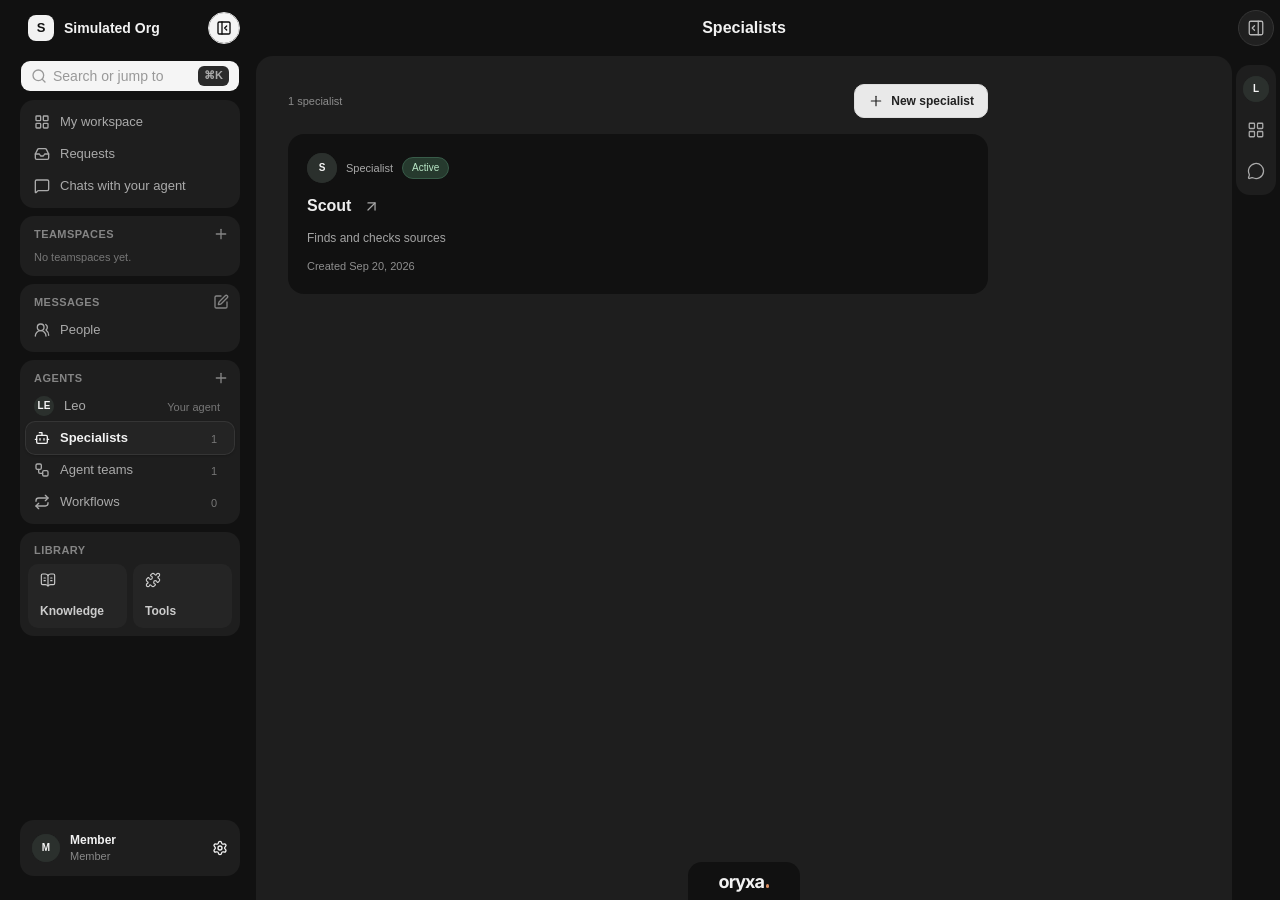
Scenario: Specialists › shows its instructions and the teams it works in
The width and height of the screenshot is (1280, 900).
Click the button with aria-label "Open Scout".
click(370, 168)  # box [288, 134, 988, 294]
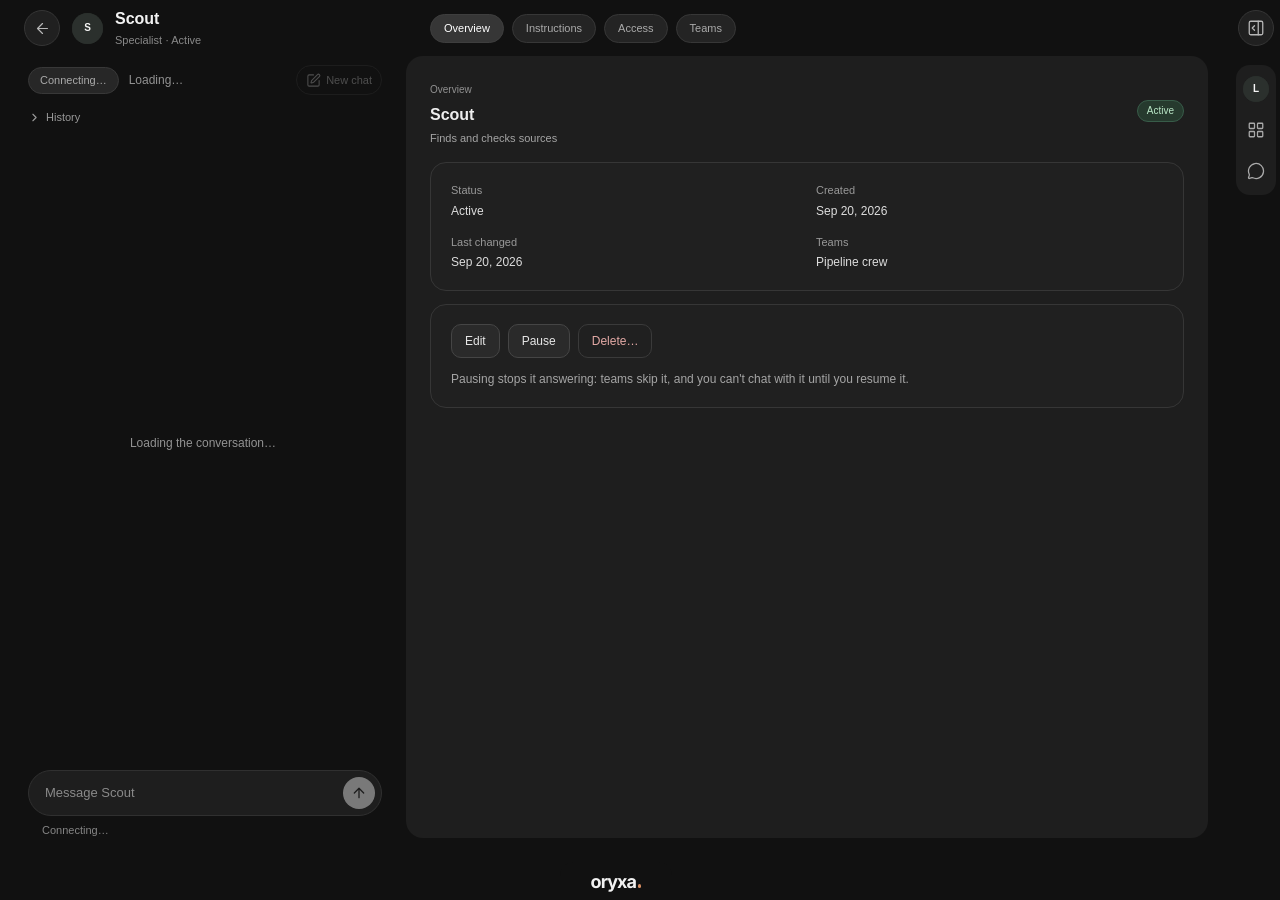
Click the button "Instructions".
click(554, 28)  # box [512, 14, 596, 43]
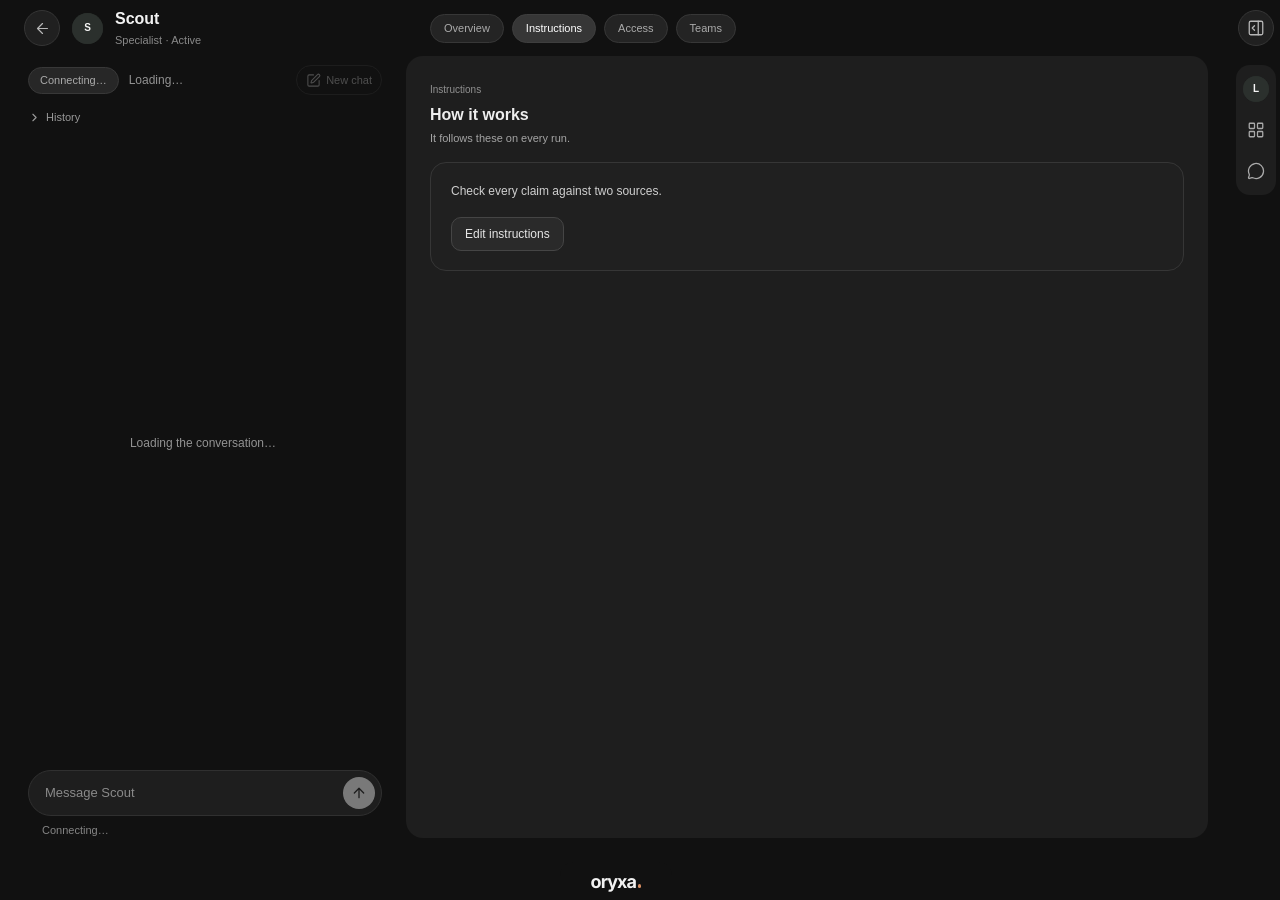
Click the button "Teams".
click(706, 28)  # box [676, 14, 736, 43]
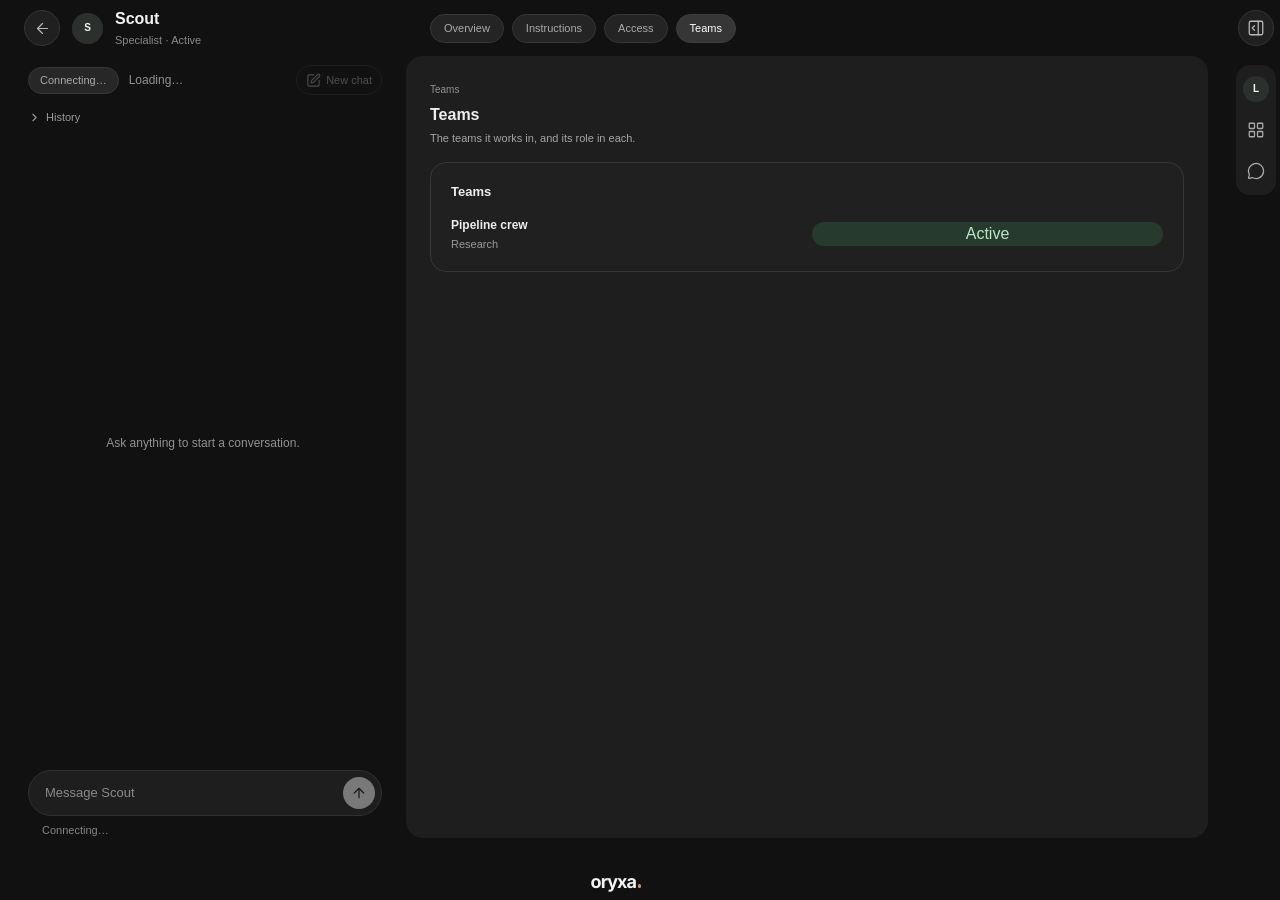
Click the button "Pipeline crew Research".
click(489, 225)  # box [451, 216, 802, 252]
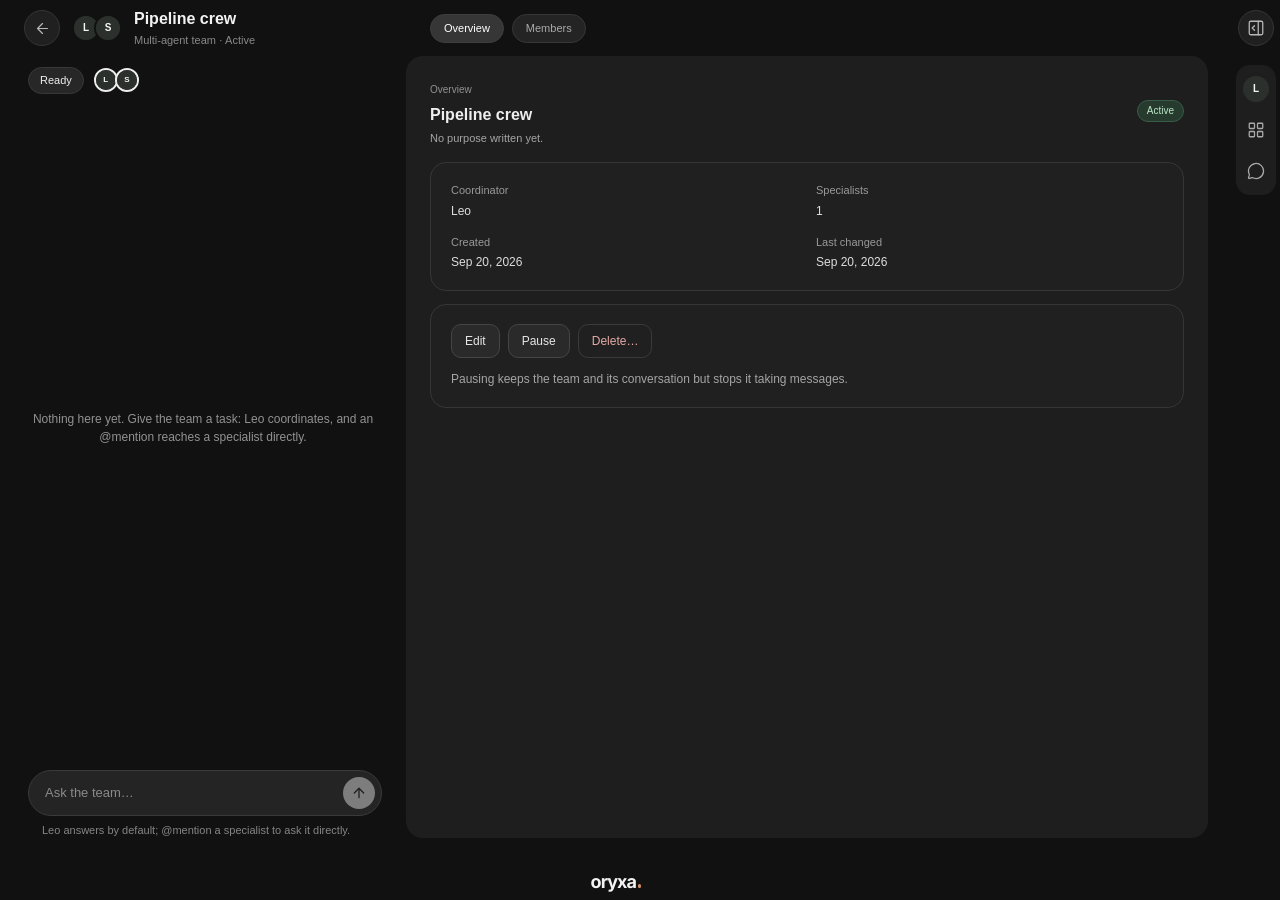
Expected: the 1st heading "Pipeline crew" is shown, [134, 10, 236, 27]
